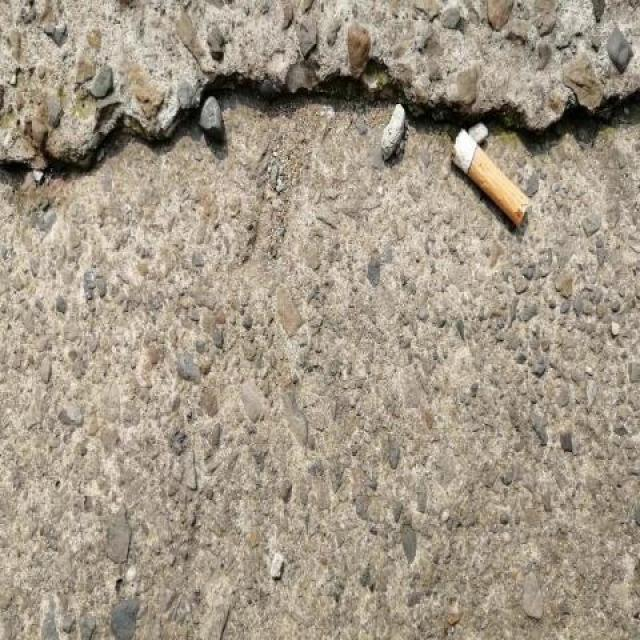non-organic waste: (446, 123, 533, 232)
